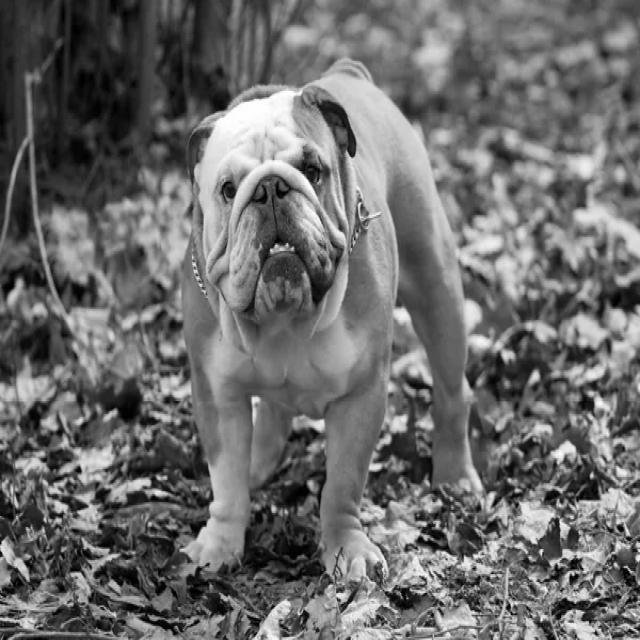Animal: (182, 59, 484, 580)
